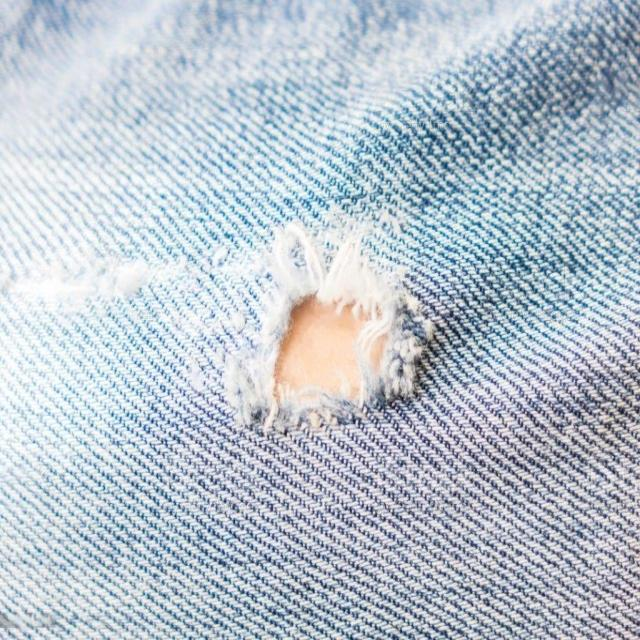Hole: (224, 223, 434, 433)
